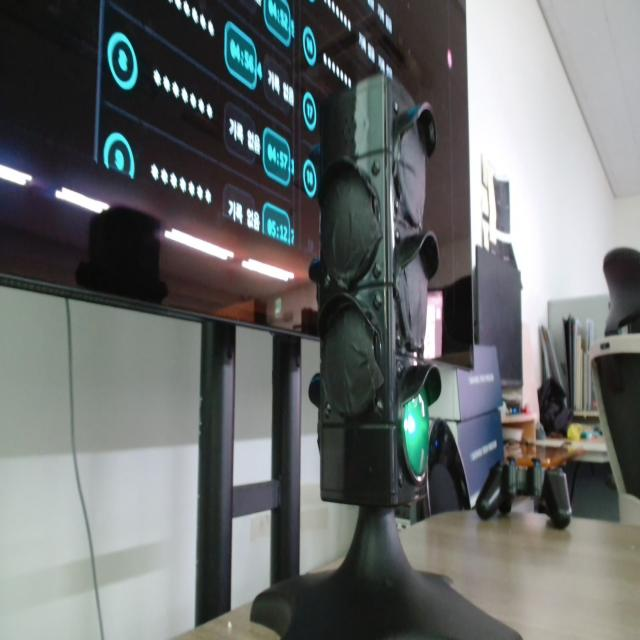green_light: (404, 389, 429, 478)
